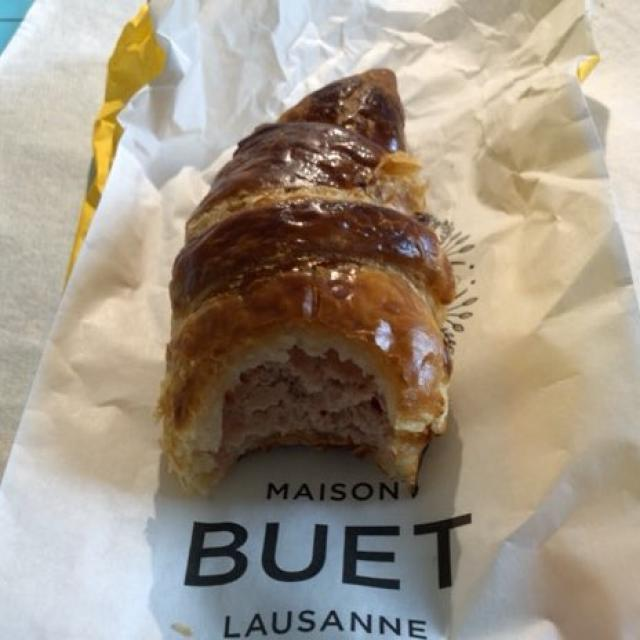ham-croissant: (161, 75, 456, 493)
